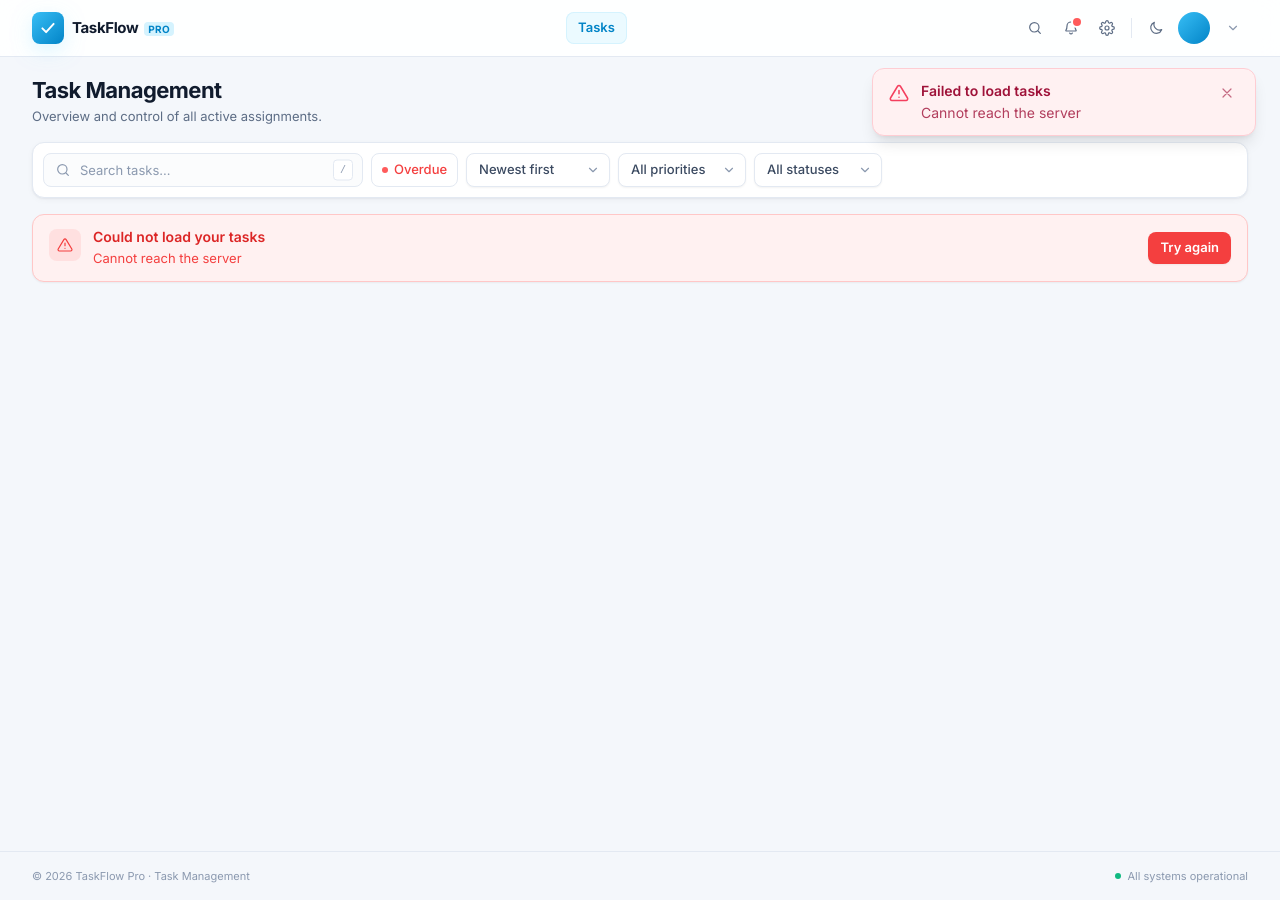
DashboardPage - states › shows an error alert with working retry
Expected: the message "Could not load your tasks Cannot reach the server Try again" is shown, 32,214 -> 1248,282
Click the button "Try again".
click(1190, 248)  # box 1148,232 -> 1231,264
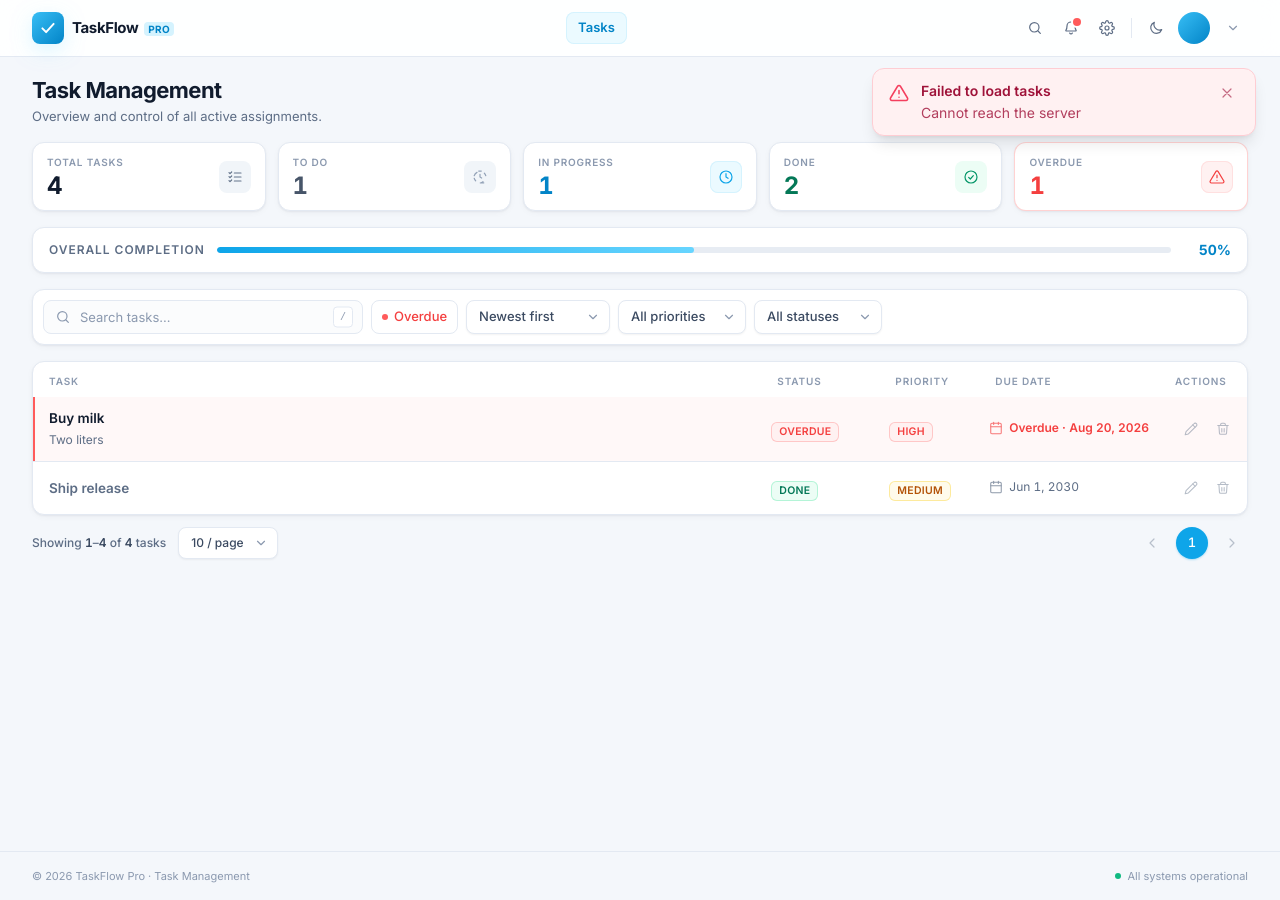
Expected: the heading "Buy milk" is shown, 49,410 -> 104,426
